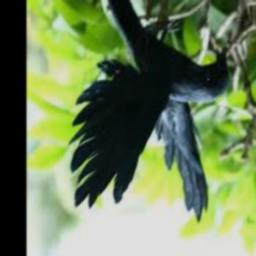Crow: (70, 0, 230, 224)
